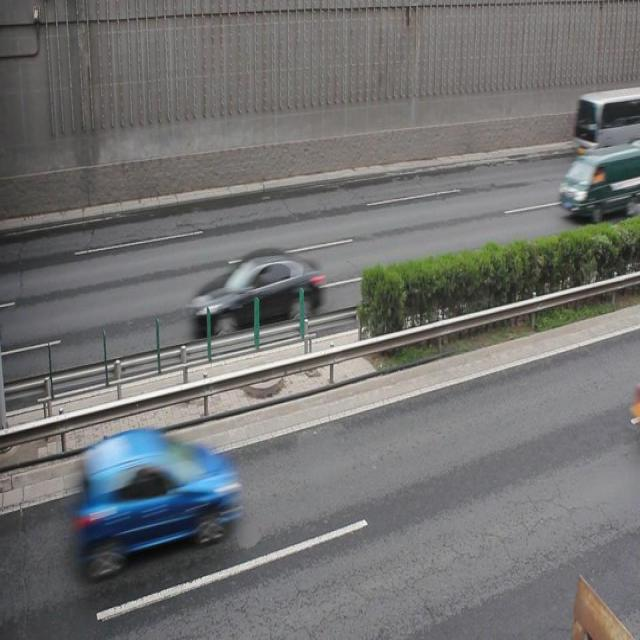car: (75, 428, 234, 577), (193, 252, 322, 337)
truck: (558, 149, 640, 217)
van: (570, 90, 640, 158)
